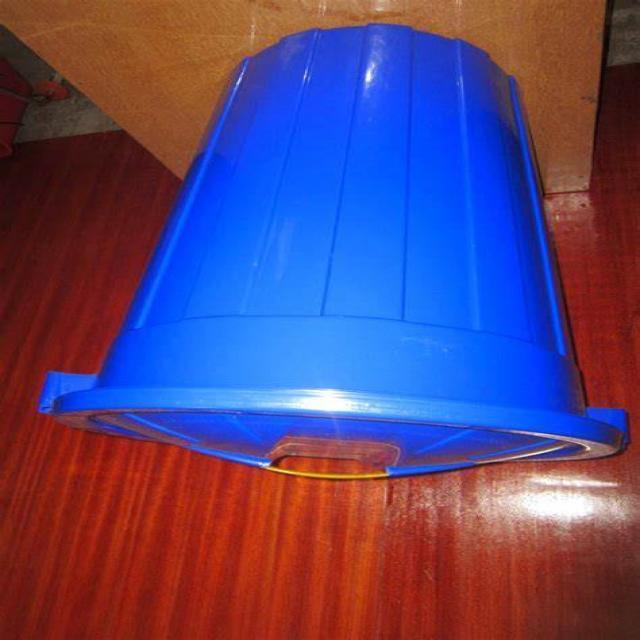garbage container: (21, 23, 640, 509)
